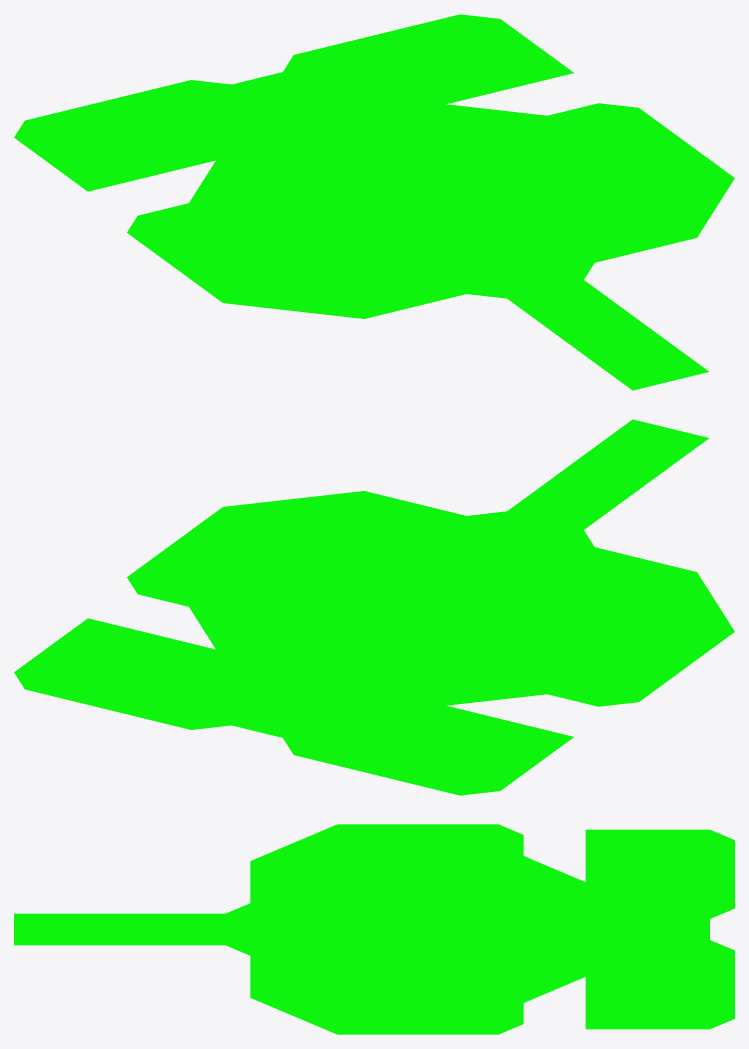
Rendered from s06a_nc2-floor.glb.
3 views of the same model, one above another, from view 1: azimuth 30°, elevation 25°; view 2: azimuth 150°, elevation 25°; view 3: azimuth 270°, elevation 25° (orthographic). The views are drawn at different scales.
Parts seen in each view (by area): view 1: collision_floor-colonly; view 2: collision_floor-colonly; view 3: collision_floor-colonly.
Part boxes in pixels (x1,y1,x2,y2): collision_floor-colonly: (14, 14, 734, 390); collision_floor-colonly: (14, 419, 734, 795); collision_floor-colonly: (14, 824, 734, 1034).
Bounding box in the file's own units: 40 × 0 × 58.
